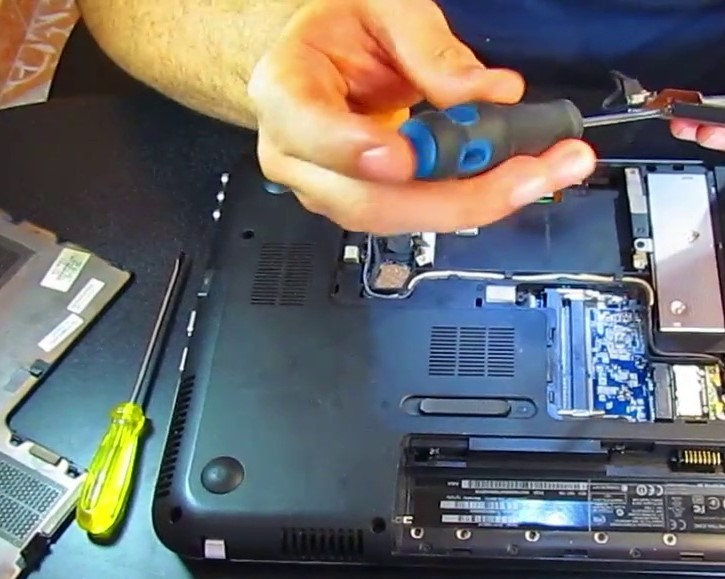screwdriver: (75, 247, 189, 537), (394, 95, 668, 183)
